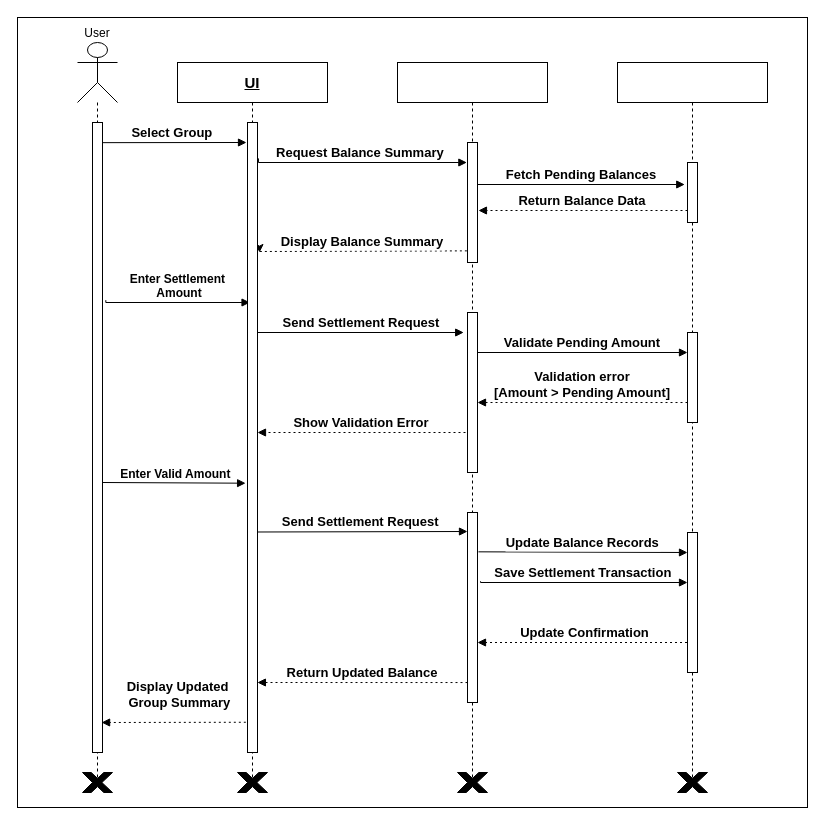
The diagram is 825 pixels wide and 825 high, and some of its shapes have lost their labels. Here are the shapes that lost their labels. From the top down, the box of each, then its label:
(396, 62, 548, 782): SettlementService
(616, 62, 768, 782): Database
